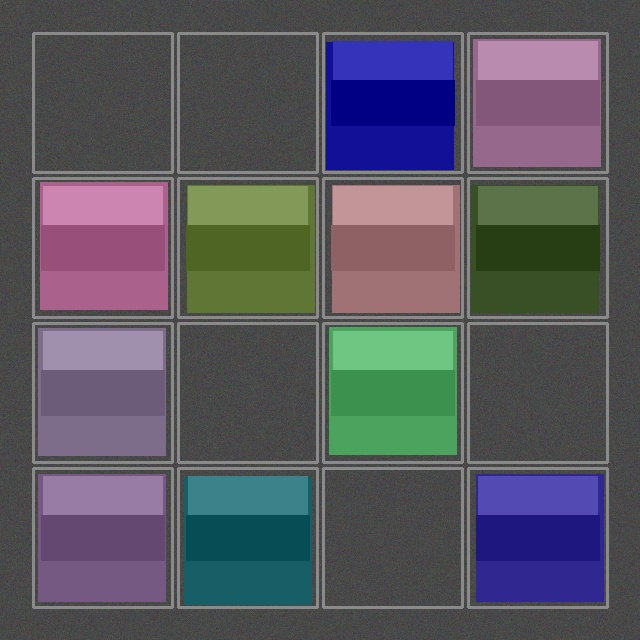space-empty: (35, 35, 170, 170), (180, 35, 315, 170), (180, 325, 315, 460), (470, 325, 605, 460), (325, 470, 460, 605)
space-occupied: (325, 35, 460, 170), (470, 35, 605, 170), (35, 180, 170, 315), (180, 180, 315, 315), (325, 180, 460, 315), (470, 180, 605, 315), (35, 325, 170, 460), (325, 325, 460, 460), (35, 470, 170, 605), (180, 470, 315, 605), (470, 470, 605, 605)
